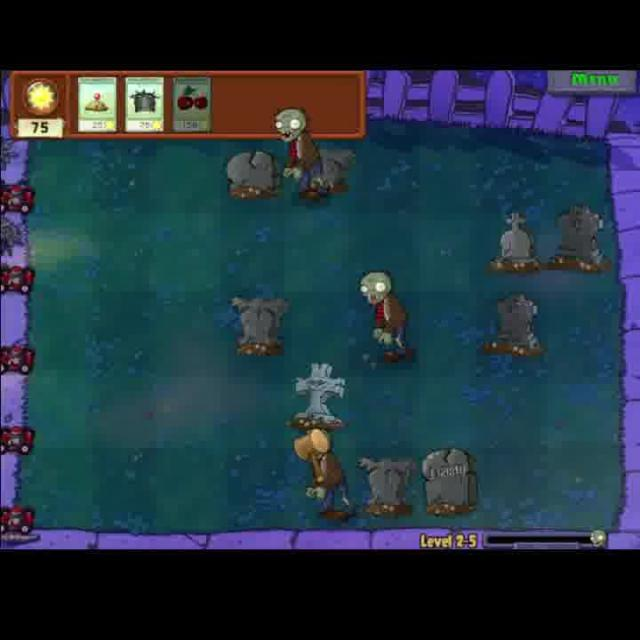coins: (294, 423, 359, 526), (268, 103, 330, 203), (354, 266, 413, 364)
